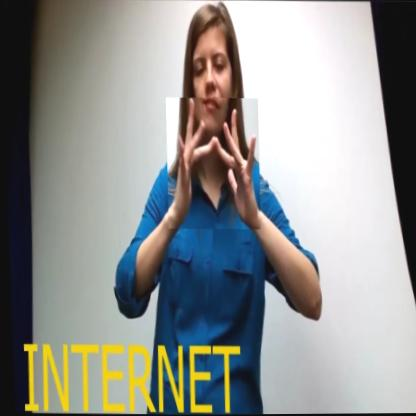Internet: (163, 97, 261, 230)
